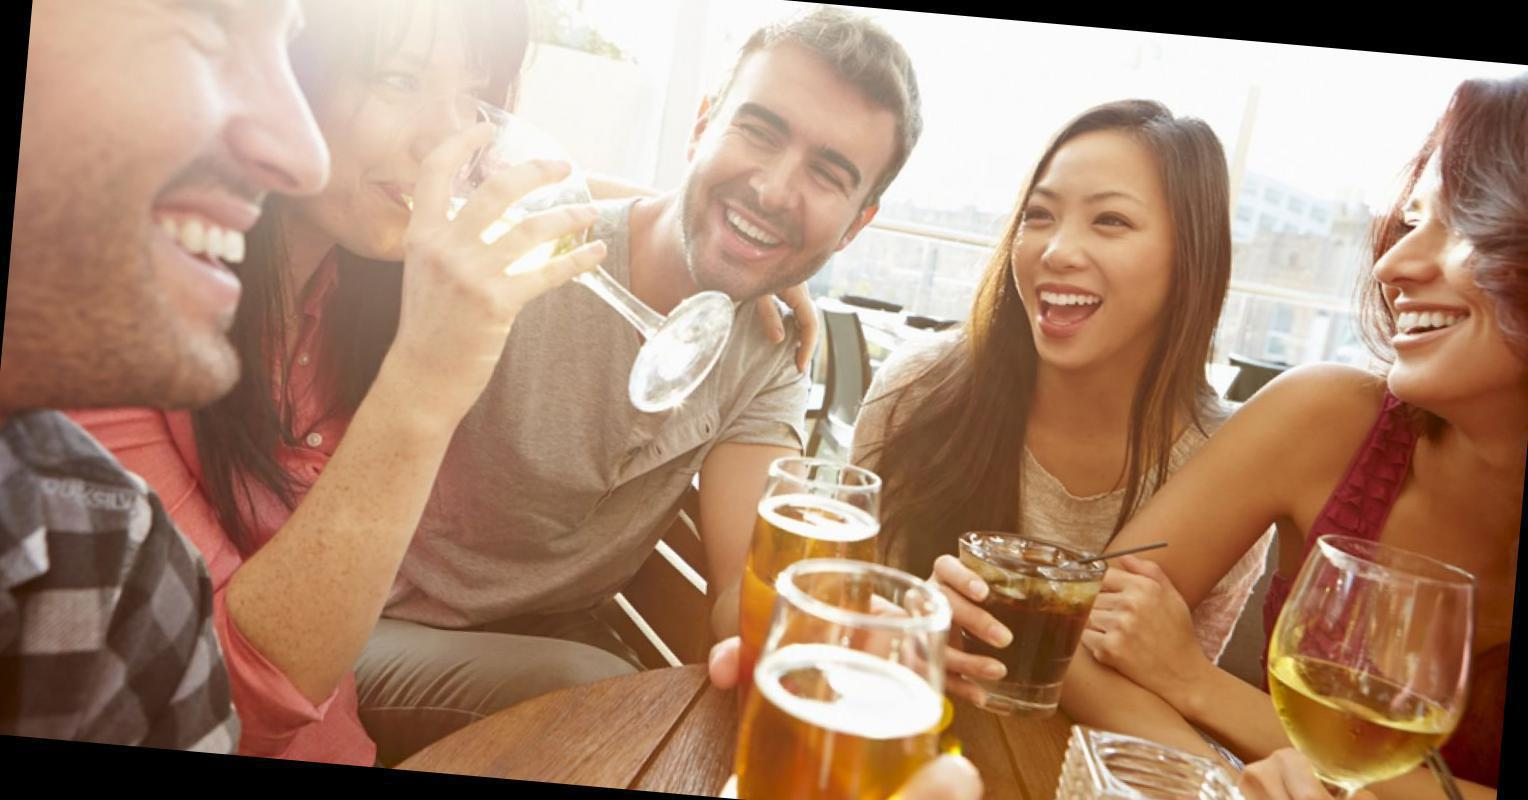Drunk: (694, 59, 872, 288), (1014, 145, 1160, 361)
